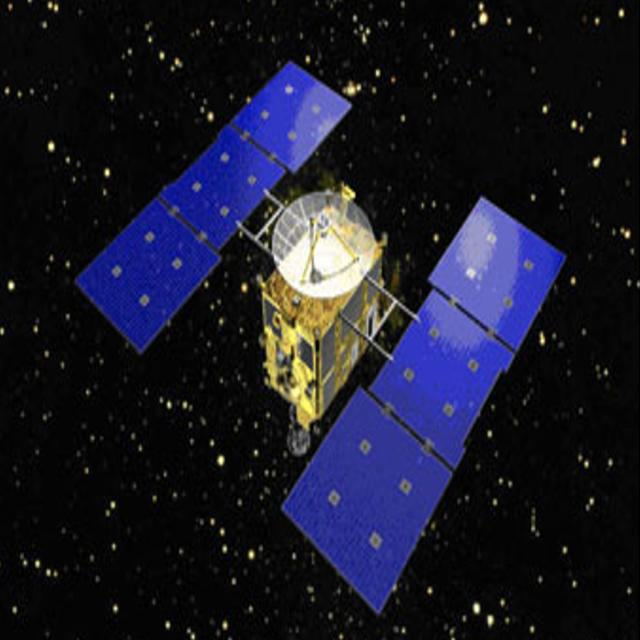satellite: (68, 51, 568, 612)
